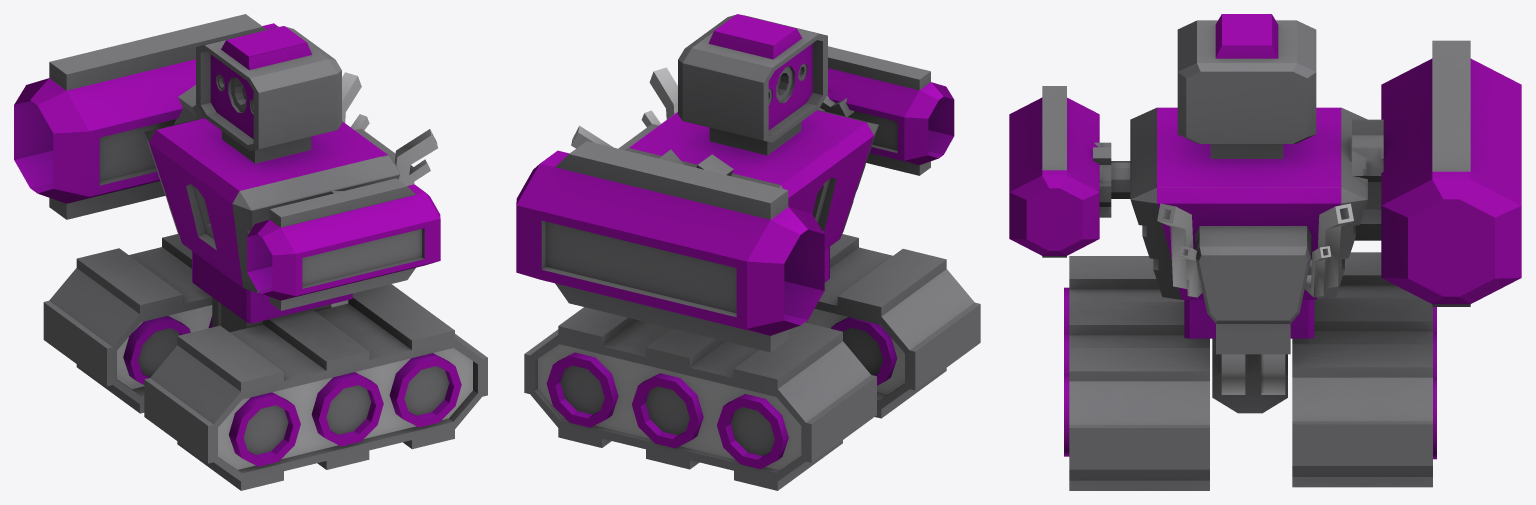
The model's file is Enemy2_Move1.obj.
3 renders of one model, left to right at view 1: azimuth 30°, elevation 25°; view 2: azimuth 150°, elevation 25°; view 3: azimuth 270°, elevation 25°, orthographic. The views are drawn at different scales.
Visible parts, largest first — view 1: Object006, Object007, Object010, Object009; view 2: Object006, Object007, Object010, Object009; view 3: Object006, Object007, Object010, Object009, Object008.
Part boxes in pixels (x1=…): Object006: x1=14, y1=14, x2=487, y2=490; Object007: x1=144, y1=26, x2=400, y2=332; Object010: x1=331, y1=72, x2=437, y2=307; Object009: x1=174, y1=85, x2=204, y2=124; Object006: x1=516, y1=46, x2=980, y2=490; Object007: x1=626, y1=14, x2=878, y2=322; Object010: x1=571, y1=67, x2=677, y2=150; Object009: x1=658, y1=149, x2=733, y2=175; Object006: x1=1009, y1=40, x2=1521, y2=490; Object007: x1=1130, y1=14, x2=1367, y2=413; Object010: x1=1157, y1=203, x2=1353, y2=394; Object009: x1=1352, y1=119, x2=1383, y2=240; Object008: x1=1093, y1=142, x2=1130, y2=217.
Size of the model in its own units: 87.45 by 109 by 125.
